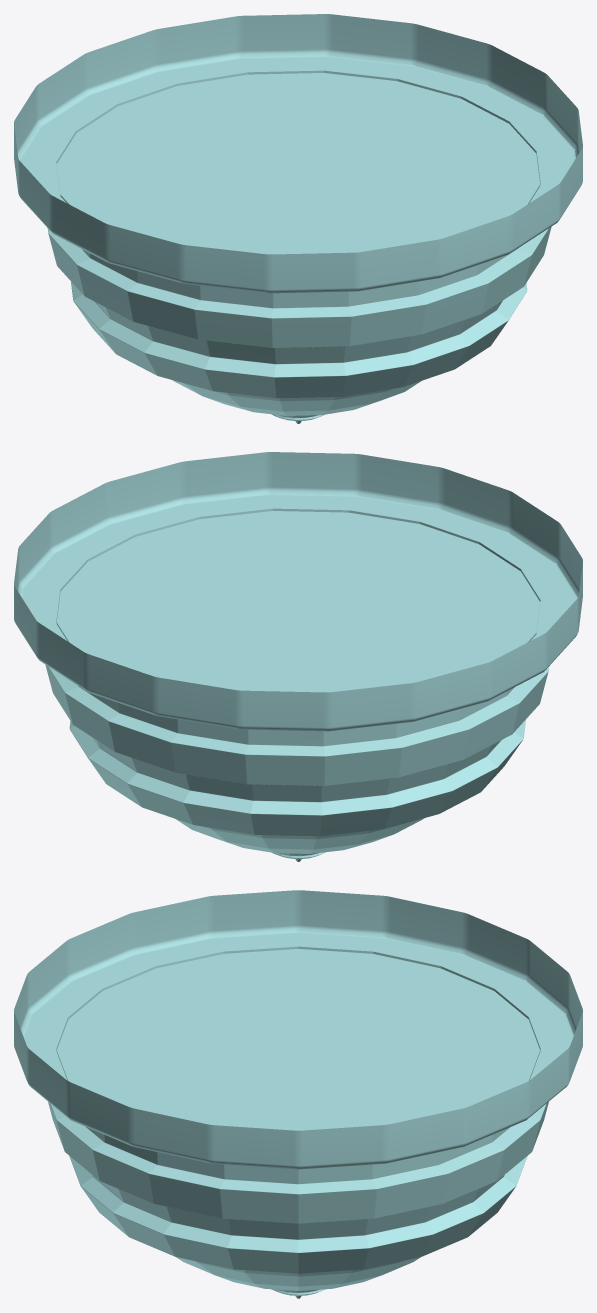
The model's file is celingLight.fbx.
3 renders of one model, top to bottom at view 1: azimuth 30°, elevation 25°; view 2: azimuth 150°, elevation 25°; view 3: azimuth 270°, elevation 25°, orthographic.
Parts seen in each view (by area): view 1: celingLight; view 2: celingLight; view 3: celingLight.
Part boxes in pixels (x1=…): celingLight: x1=14, y1=14, x2=582, y2=423; celingLight: x1=14, y1=452, x2=582, y2=861; celingLight: x1=14, y1=890, x2=582, y2=1298.
Size of the model in its own units: 23.49 by 13.1 by 23.49.
